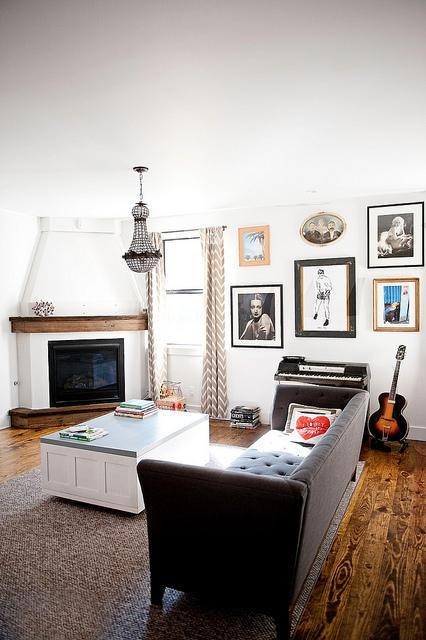tv: (48, 344, 125, 408)
